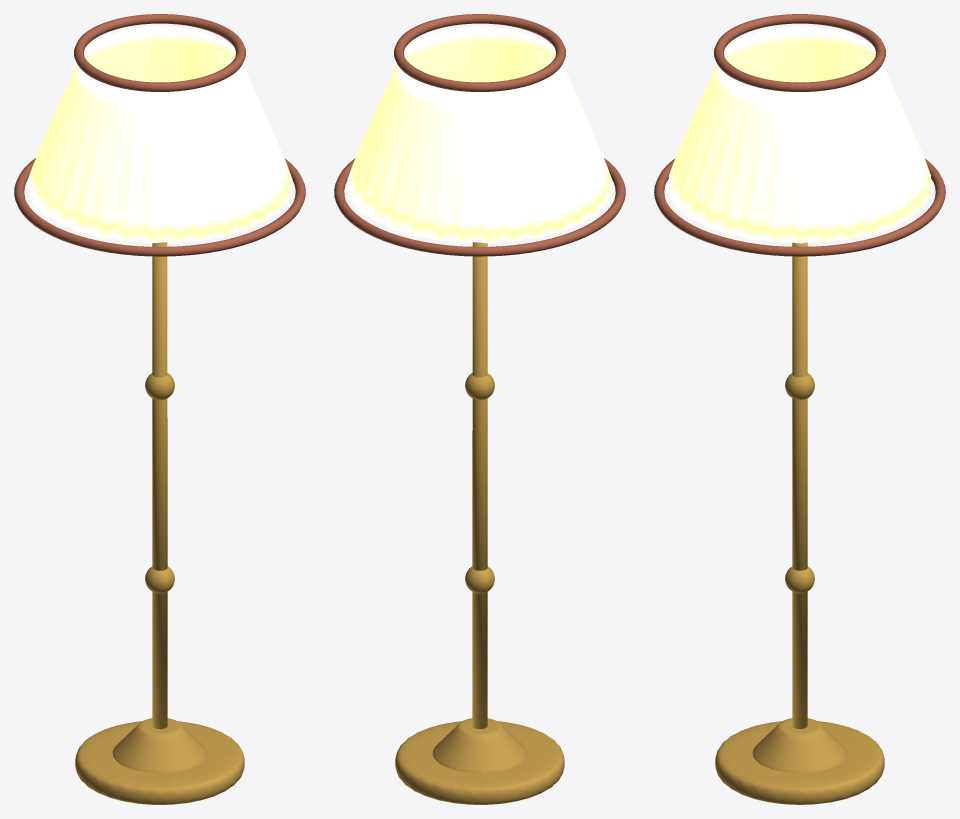
Rendered from plush_lamp.glb.
The picture shows the model from 3 angles, left to right: view 1: azimuth 30°, elevation 25°; view 2: azimuth 150°, elevation 25°; view 3: azimuth 270°, elevation 25°; orthographic projection.
Parts seen in each view (by area): view 1: Cone, foot, Torus; view 2: Cone, foot, Torus; view 3: Cone, foot, Torus.
Boxes of the visible parts, bbox=[...] form: Cone: bbox=[26, 26, 293, 243]; foot: bbox=[75, 242, 244, 804]; Torus: bbox=[14, 14, 305, 256]; Cone: bbox=[346, 26, 613, 243]; foot: bbox=[395, 242, 564, 804]; Torus: bbox=[334, 14, 625, 256]; Cone: bbox=[666, 26, 933, 243]; foot: bbox=[715, 242, 884, 804]; Torus: bbox=[654, 14, 945, 256].
Bounding box in the file's own units: 0.684 × 1.87 × 0.684.
